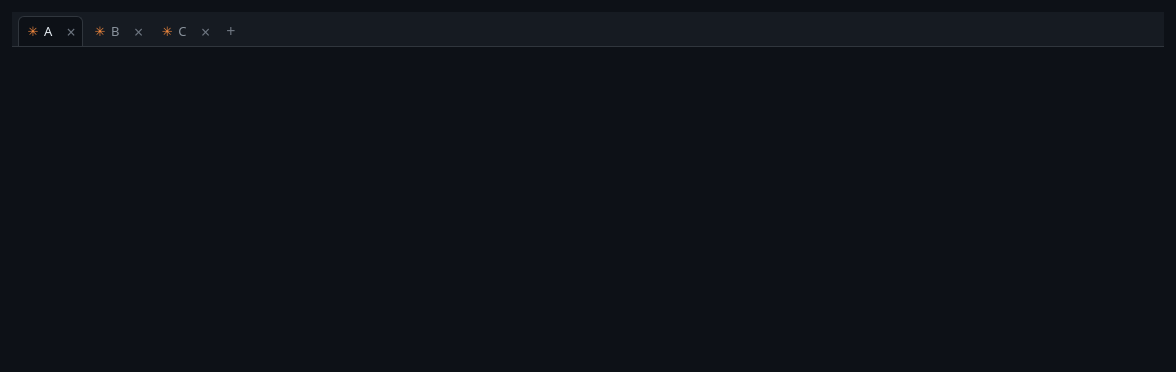
TabBar context menu and middle-click › Move left / right are disabled at the ends, and the split items until splitting exists
Right-click the tab "✳ A" at [40, 32], box [19,17,60,46]
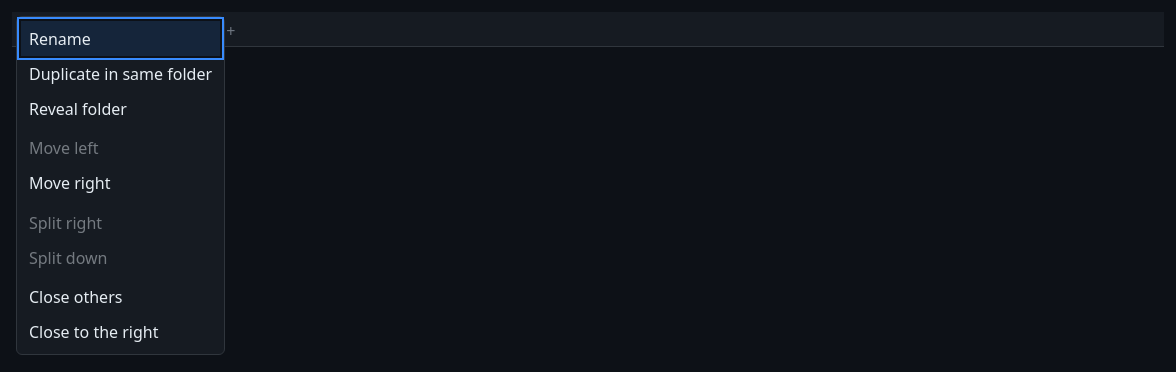
Expected: the menu item "Move left" is disabled, [21,131,220,166]
Expected: the menu item "Move right" is enabled, [21,166,220,201]
Expected: the menu item "Split right" is disabled, [21,205,220,240]
Press Escape
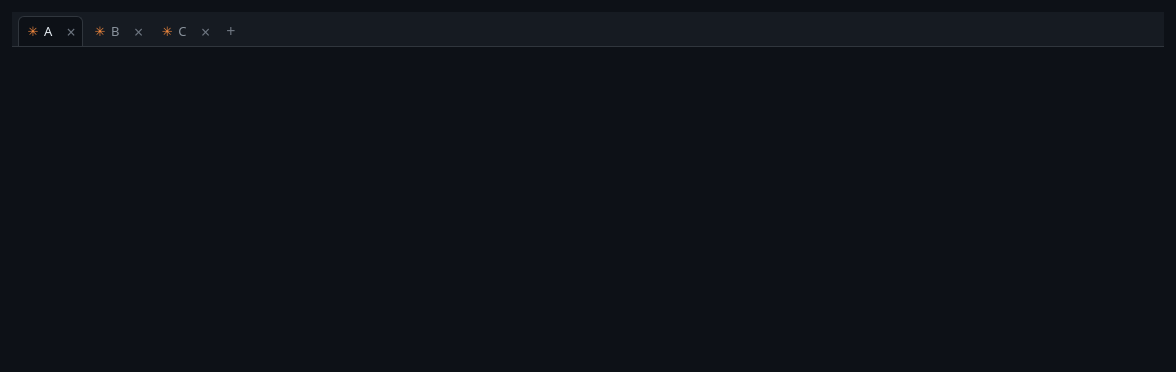
Expected: the menu is gone
Right-click the tab "✳ C" at [174, 32], box [154,17,194,46]
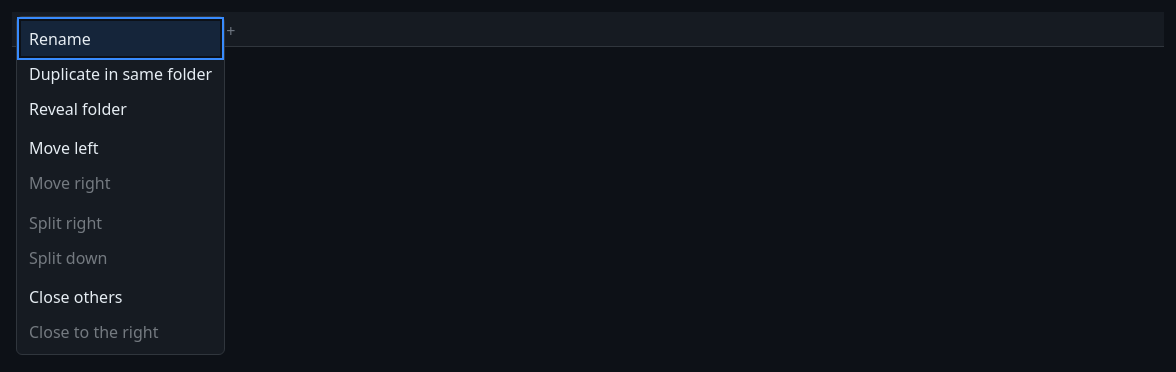
Expected: the menu item "Move right" is disabled, [21,166,220,201]
Expected: the menu item "Close to the right" is disabled, [21,314,220,350]
